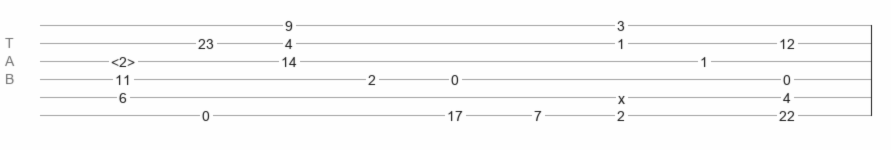0: (202, 108, 210, 118), (451, 72, 459, 82), (783, 72, 791, 82)
1: (617, 36, 625, 46), (700, 54, 708, 64)
11: (115, 72, 131, 82)
12: (779, 36, 795, 46)
14: (281, 54, 297, 64)
17: (447, 108, 463, 118)
2: (368, 72, 376, 82), (617, 108, 625, 118)
22: (779, 108, 795, 118)
23: (198, 36, 214, 46)
3: (617, 18, 625, 28)
4: (285, 36, 293, 46), (783, 90, 791, 100)
6: (119, 90, 127, 100)
7: (534, 108, 542, 118)
9: (285, 18, 293, 28)
harmonic: (111, 54, 135, 64)
x: (618, 91, 625, 99)
